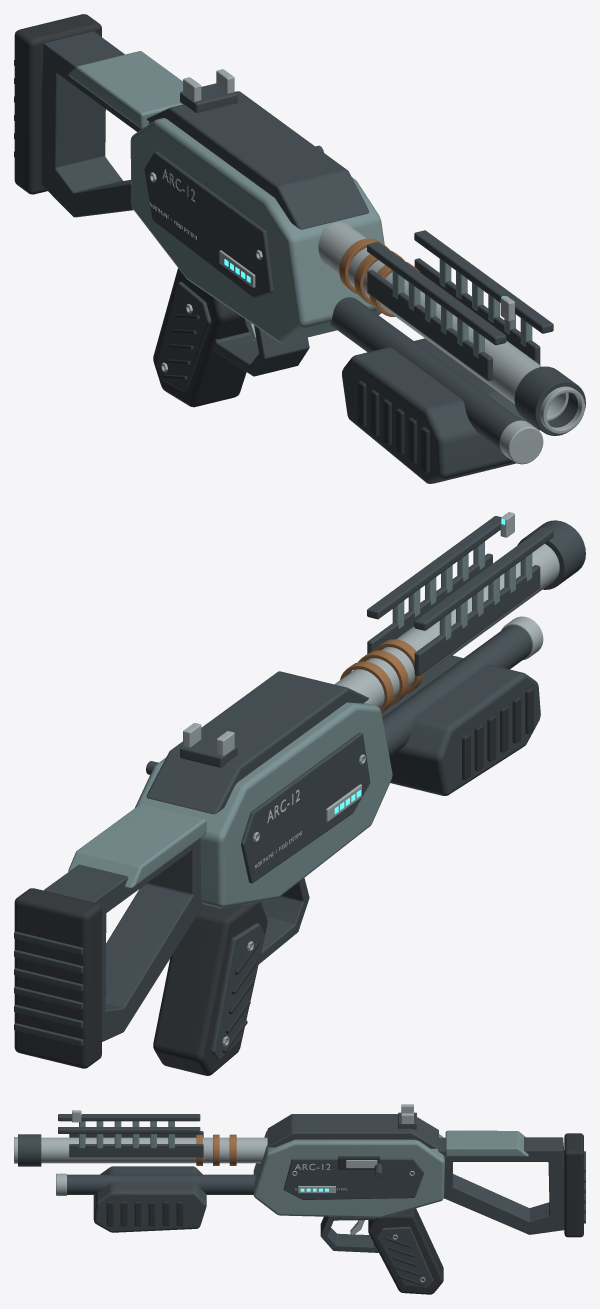
The model's file is HF_ARC12.fbx.
The picture shows the model from 3 angles, top to bottom: view 1: azimuth 30°, elevation 25°; view 2: azimuth 150°, elevation 25°; view 3: azimuth 270°, elevation 25°; orthographic projection. The views are drawn at different scales.
Visible parts, largest first — view 1: Body mesh, Pump mesh; view 2: Body mesh, Pump mesh; view 3: Body mesh, Pump mesh, Bolt mesh.
Boxes of the visible parts, x1=… form: Body mesh: x1=14, y1=14, x2=585, y2=464; Pump mesh: x1=342, y1=338, x2=539, y2=483; Body mesh: x1=14, y1=512, x2=585, y2=1075; Pump mesh: x1=380, y1=655, x2=540, y2=795; Body mesh: x1=14, y1=1104, x2=585, y2=1294; Pump mesh: x1=93, y1=1166, x2=206, y2=1232; Bolt mesh: x1=338, y1=1156, x2=382, y2=1178.
Bounding box in the file's own units: 16.2 × 35.41 × 102.
